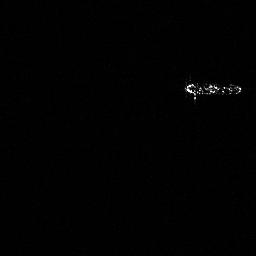ship: (181, 76, 244, 102)
